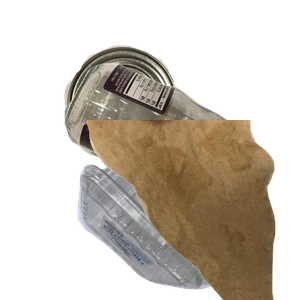glass: (62, 60, 300, 240)
metal: (62, 43, 232, 198)
plastic: (75, 147, 289, 300)
trash: (84, 120, 300, 300)
